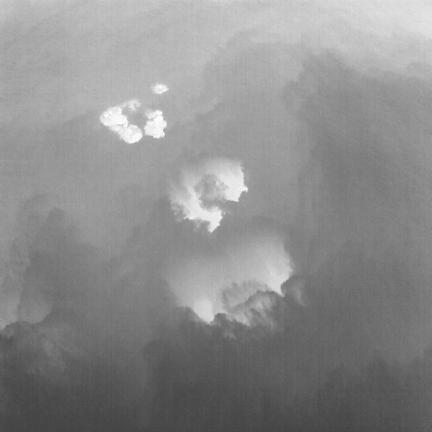flukeprints: (170, 186, 223, 232), (202, 158, 247, 201), (101, 106, 128, 132), (144, 110, 166, 138), (117, 123, 142, 143), (152, 83, 169, 94)
